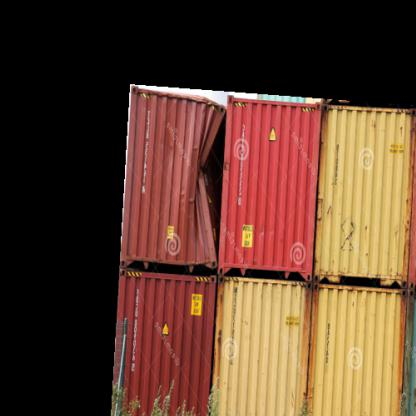Damage: (175, 118, 239, 250)
